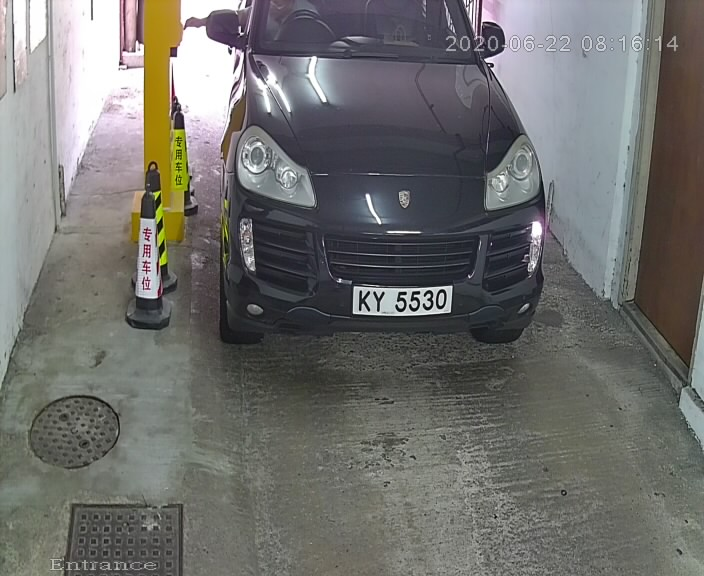privatecar: (198, 2, 574, 373)
